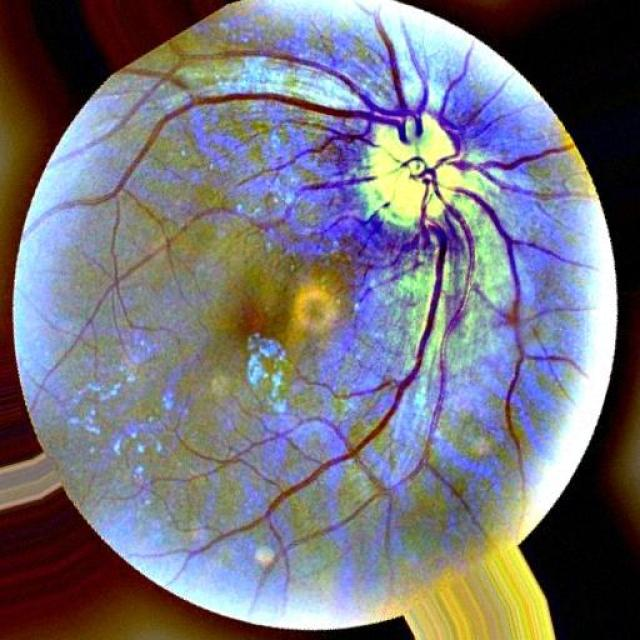Macula: (209, 291, 284, 346)
Nerves: (184, 233, 448, 557), (31, 87, 401, 227)
Optic Disk: (348, 102, 484, 235)
